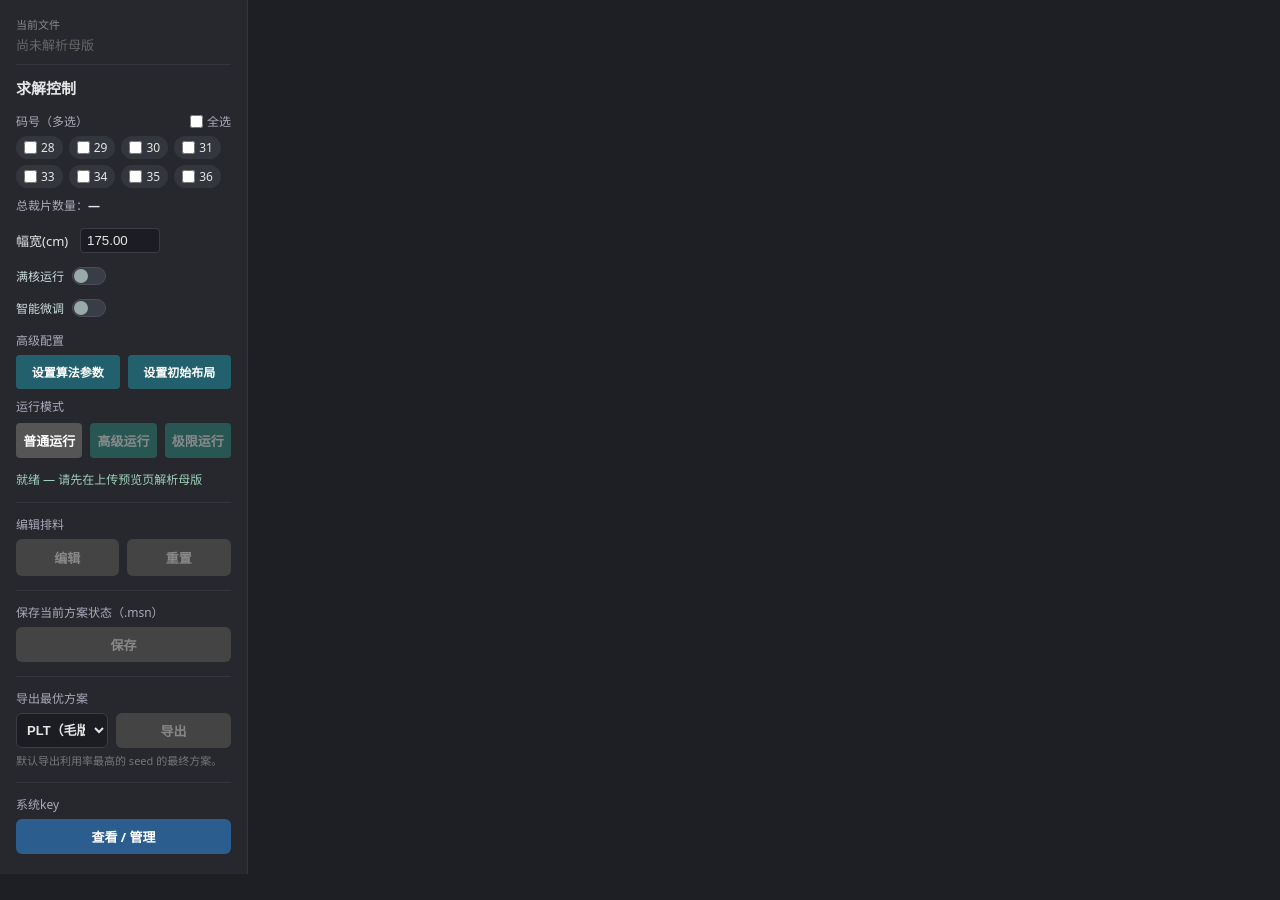
Test: US-027 NestingPage phase 转换 › 3a) running->(stopped)->stopped：状态行含「已停止」+ #stop 切 #restart（US-028 SolveControls）
What coordinates should you click on to do the following:
click the checkbox labelled "28"
I would click on:
 (30, 148)
Its box is x1=24 y1=141 x2=37 y2=154.
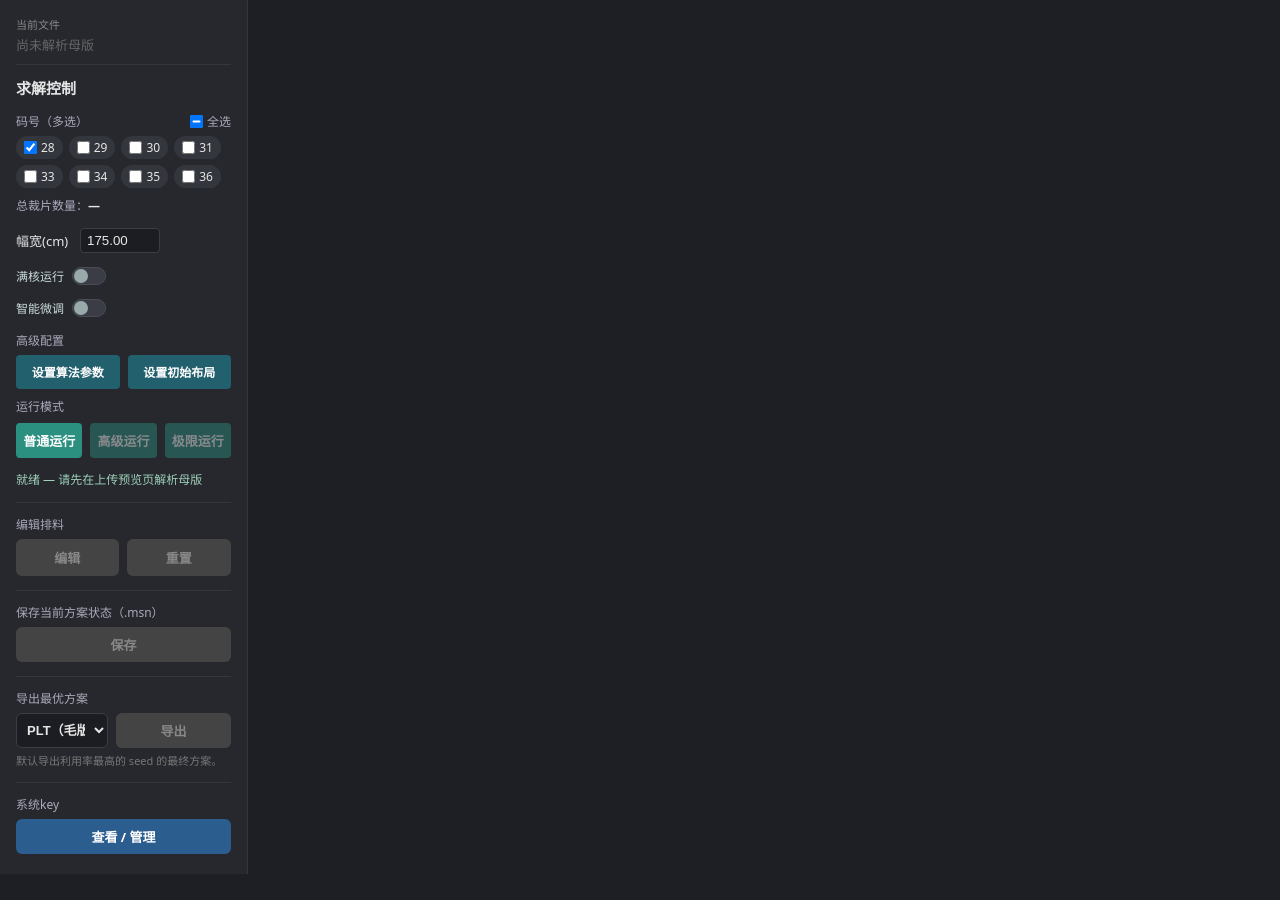
What coordinates should you click on to do the following:
click the button with id "start"
I would click on:
 (49, 440)
Its box is x1=16 y1=423 x2=82 y2=458.
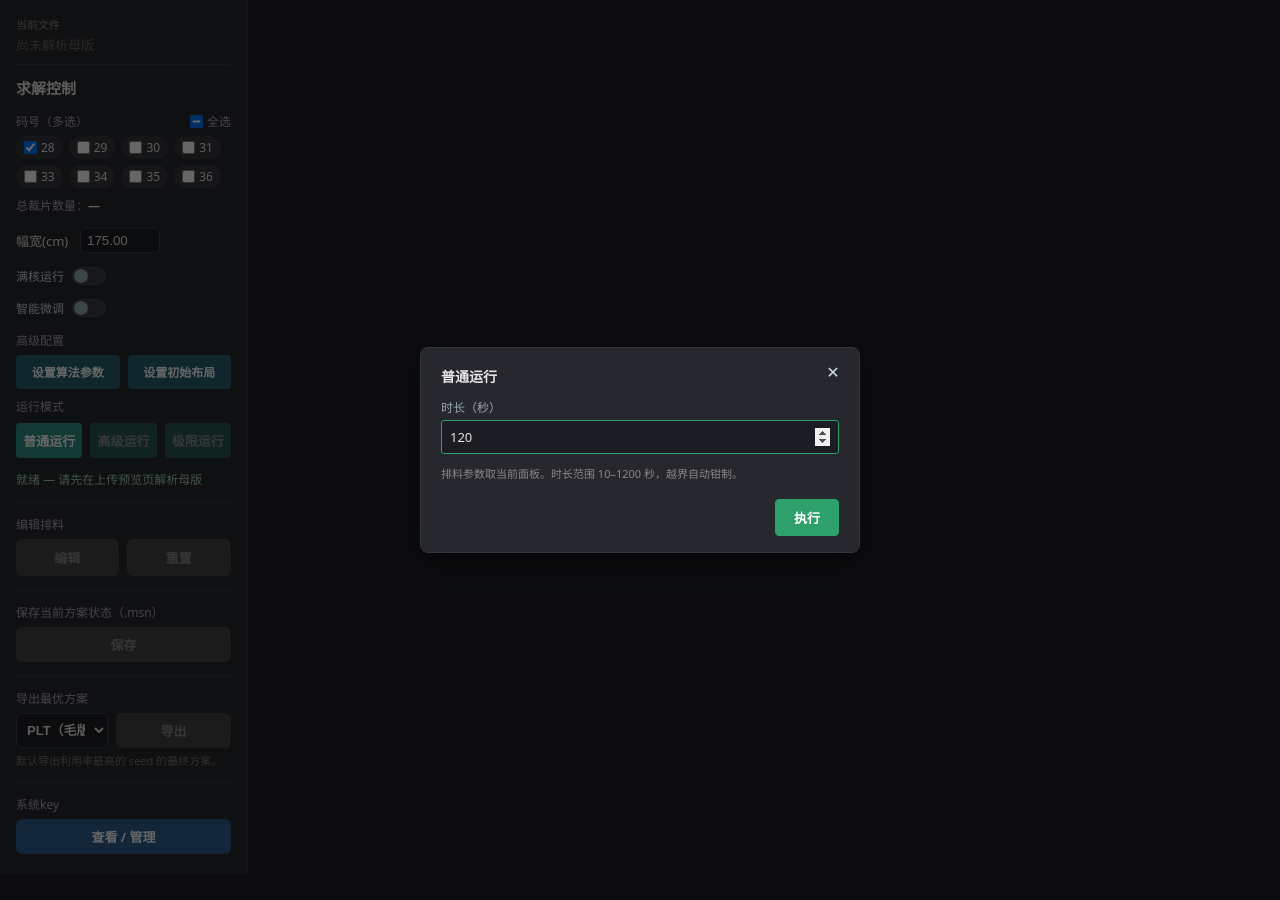
What coordinates should you click on to do the following:
click the button with test id "normal-run-confirm"
I would click on:
 (807, 517)
Its box is x1=775 y1=499 x2=839 y2=536.
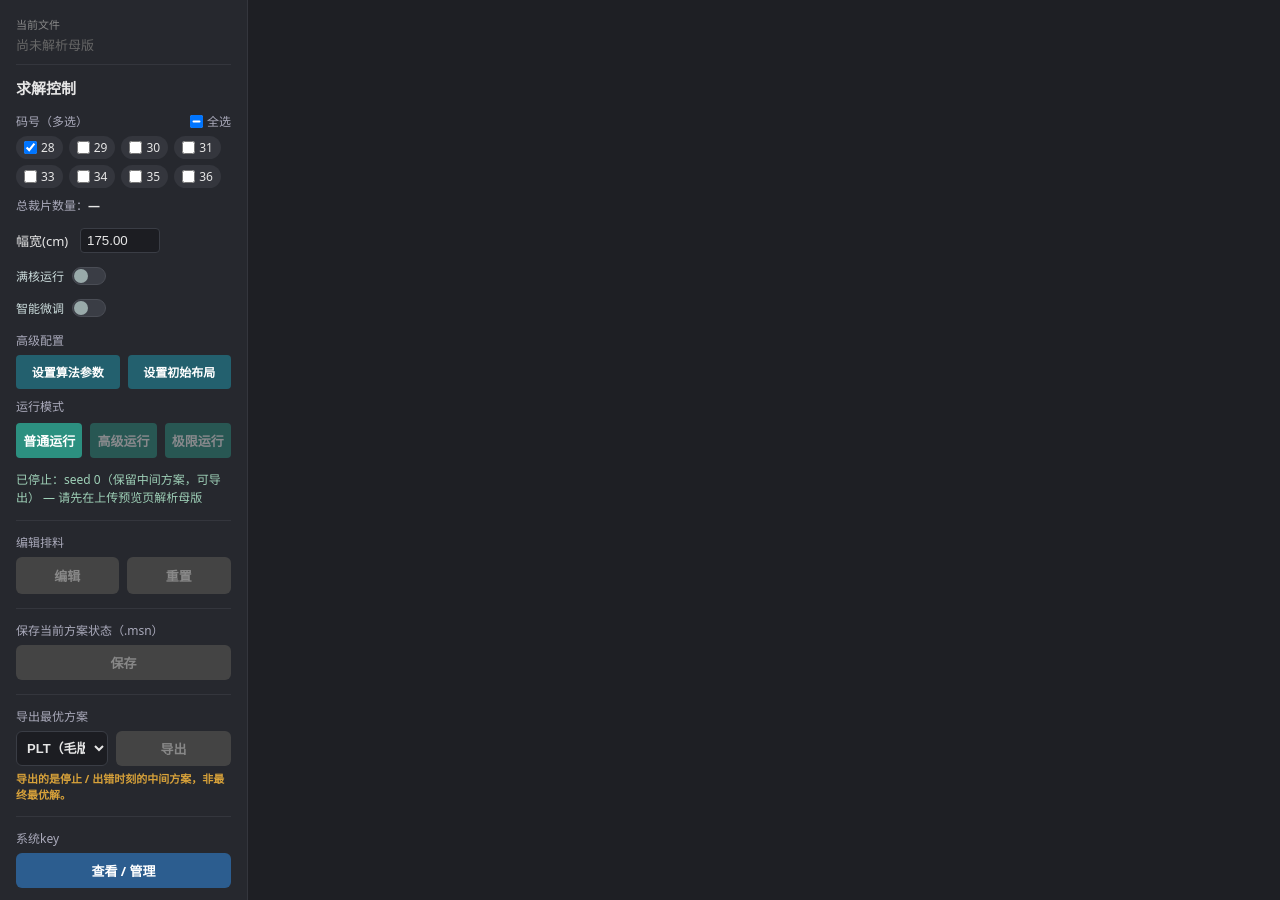
Now the button with id "start" is enabled, box x1=16 y1=423 x2=82 y2=458
Now the text with id "status" shows "已停止", box x1=16 y1=471 x2=221 y2=506
Now the text with id "status" shows "中间方案", box x1=16 y1=471 x2=221 y2=506
